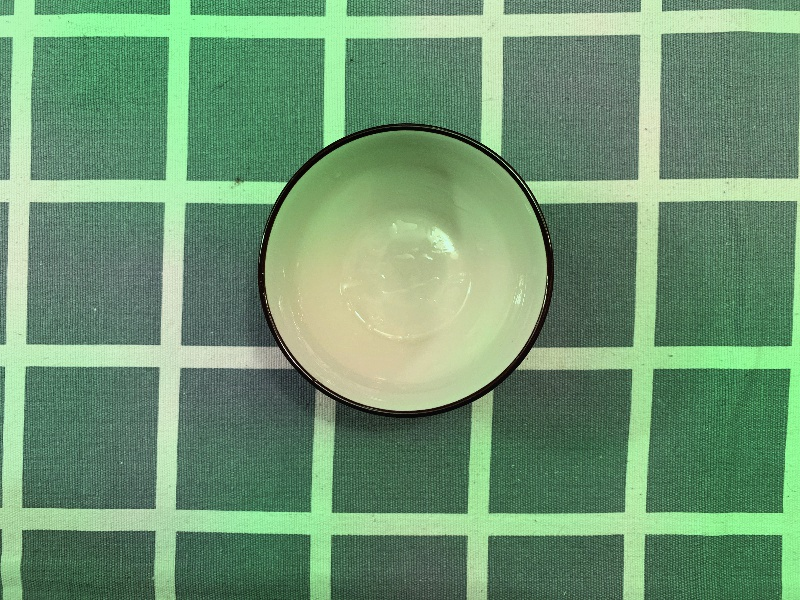bowl_small: (248, 117, 562, 427)
